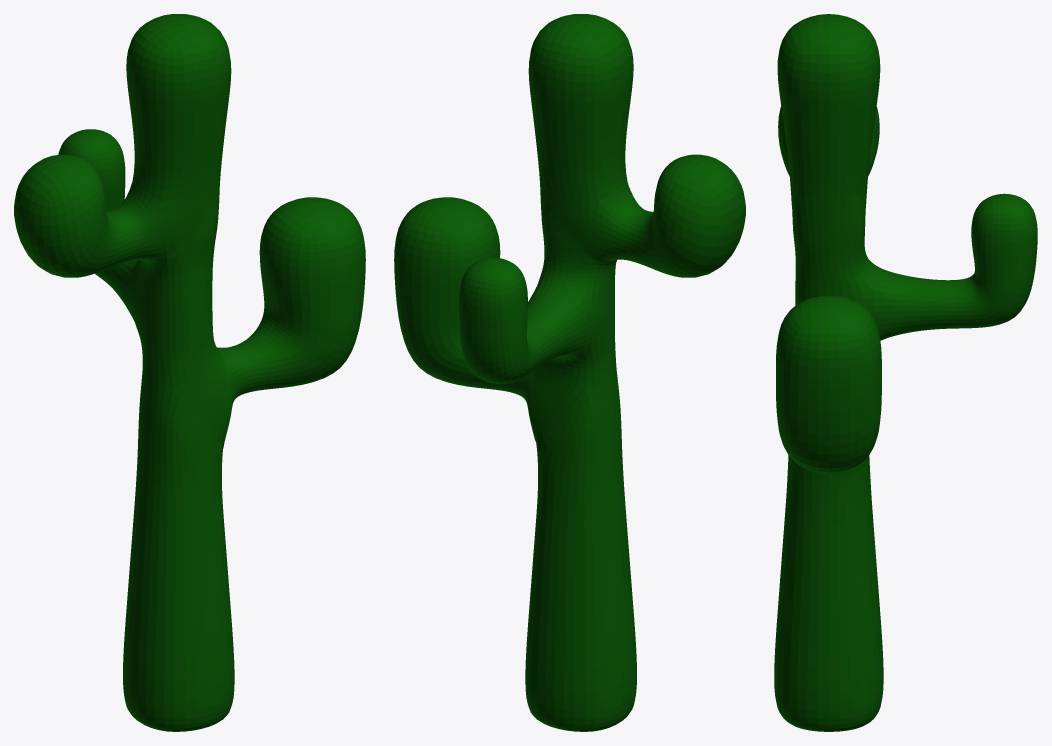
Rendered from cacti.obj.
3 views of the same model, side by side, from view 1: azimuth 30°, elevation 25°; view 2: azimuth 150°, elevation 25°; view 3: azimuth 270°, elevation 25° (orthographic).
Visible parts, largest first — view 1: Cube; view 2: Cube; view 3: Cube.
Boxes of the visible parts, x1,y1,x2,y2 form: Cube: (14, 14, 365, 731); Cube: (394, 14, 745, 731); Cube: (774, 14, 1037, 731).
Size of the model in its own units: 2.5 by 4.95 by 1.7.
Materials: 1 (1 with a texture image).
